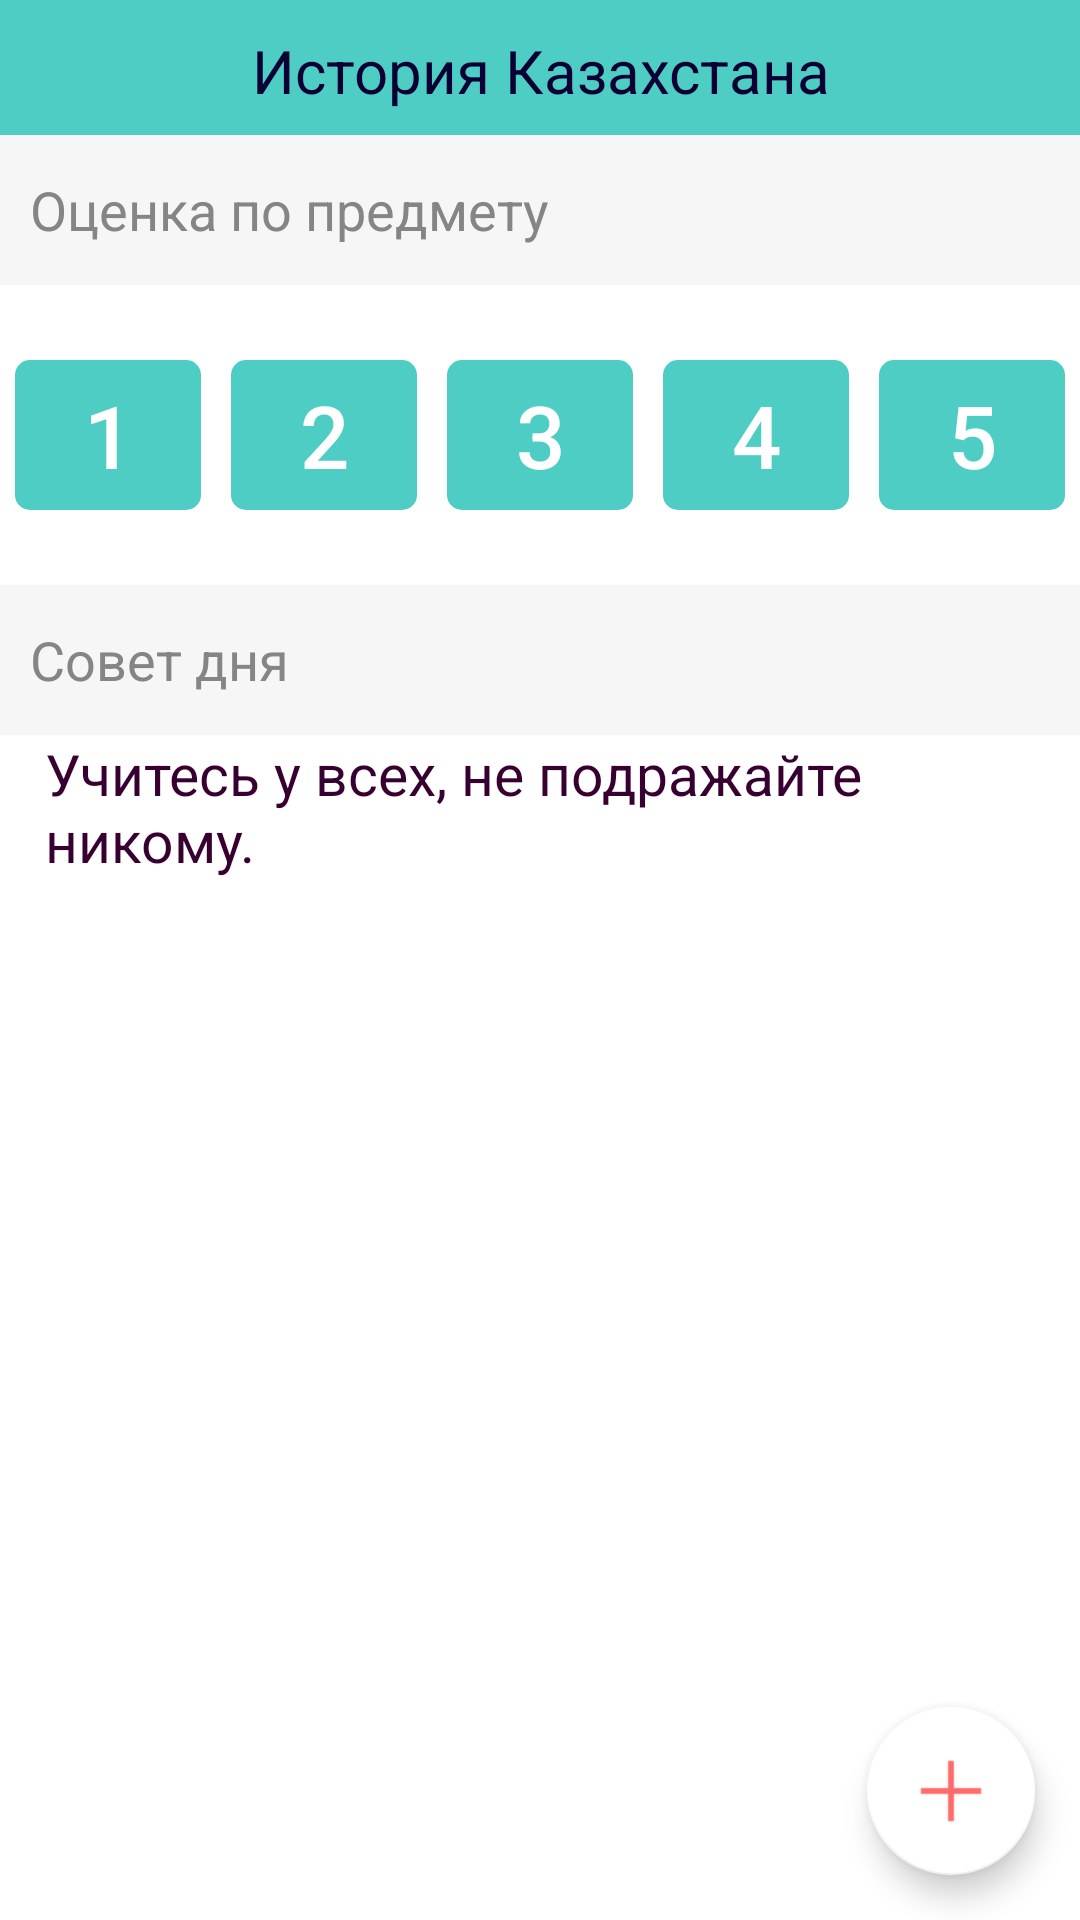

Icon bounding boxes for this 1080*1920 phone screenshot, format box=[x1, y1, x2, y2]:
add: box=[872, 1760, 1035, 1875]
